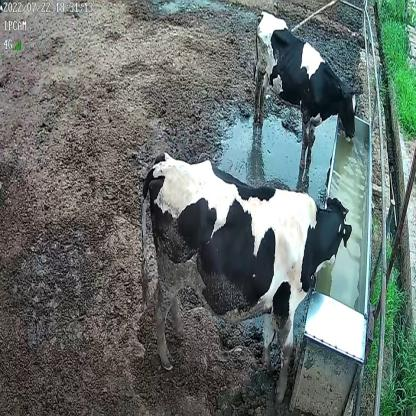cow: (139, 151, 352, 402), (253, 9, 360, 169)
